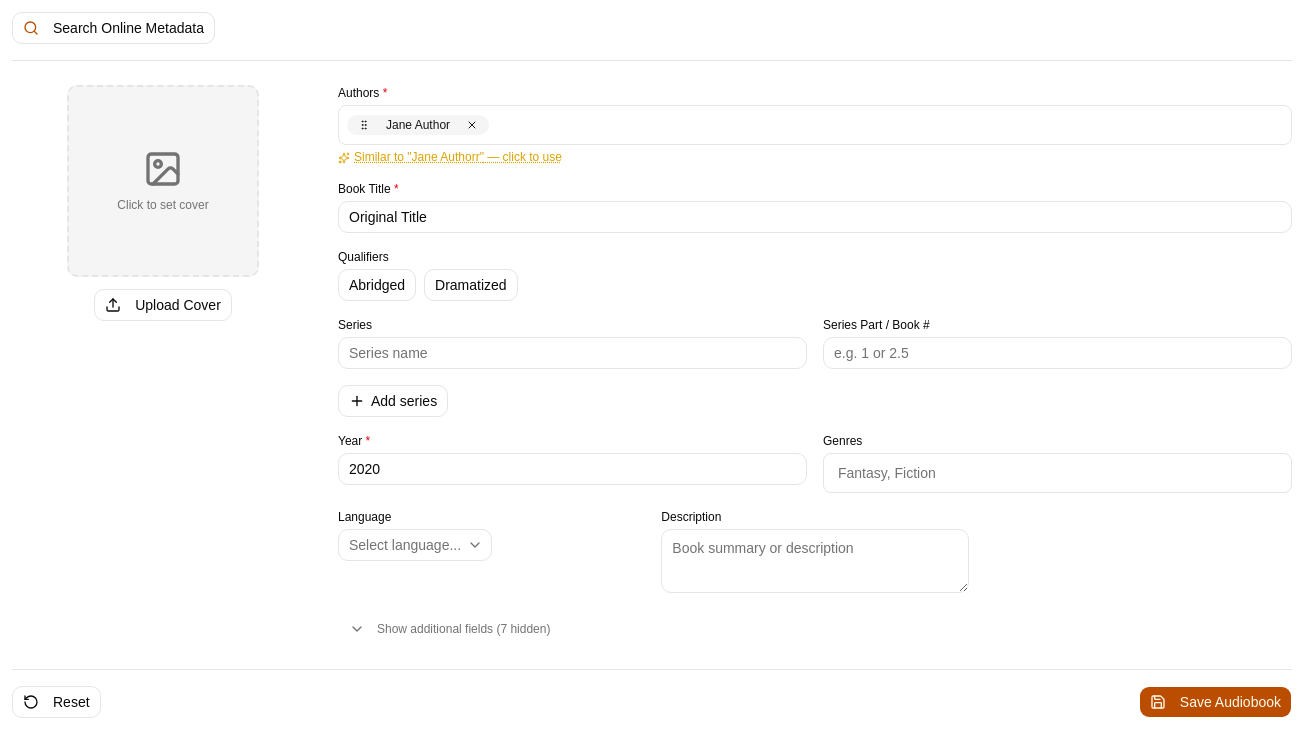
Test: BookEditForm › shows a click-to-use hint for the initial author as soon as the server classifies it as similar, with no typing required
What coordinates should you click on to do the following:
click the button "Similar to \"Jane Authorr\" — click to use"
I would click on:
 (450, 157)
Its box is [338,149,562,165].
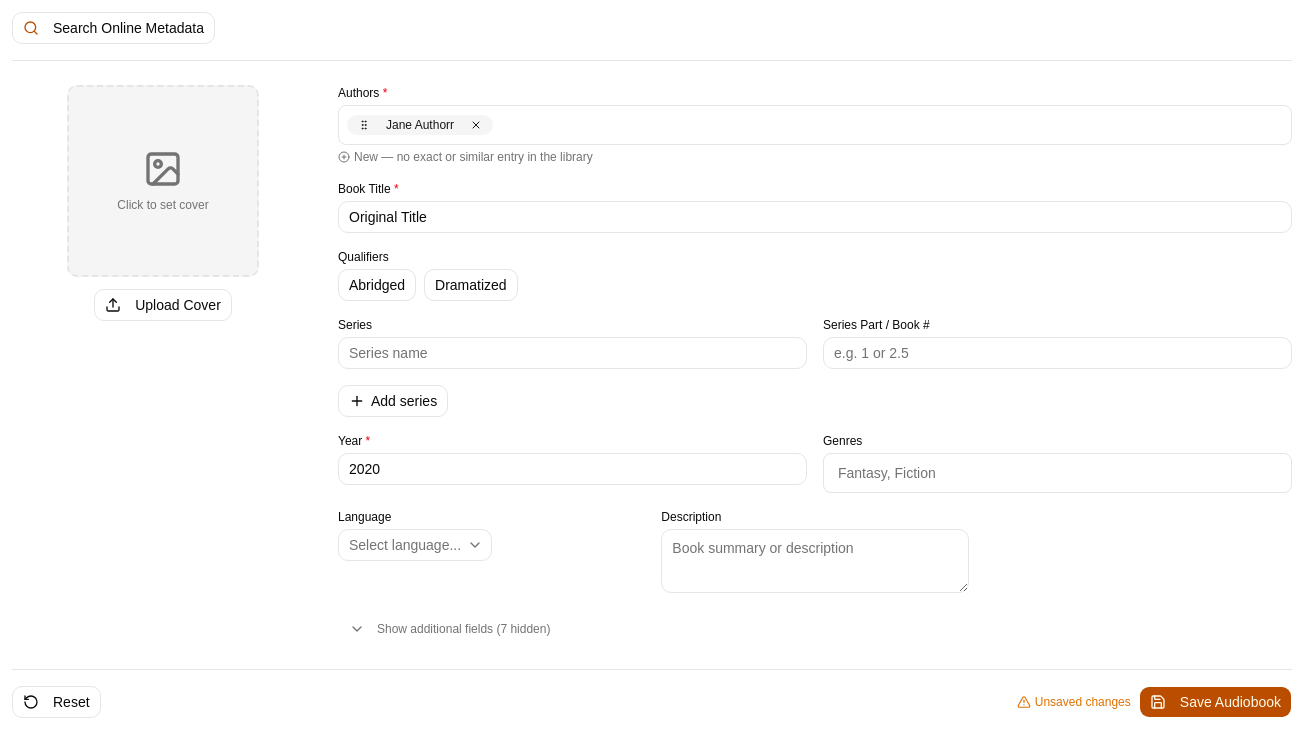
Now the button "Jane Authorr" is shown, box [380,115,460,135]
Now the button "Similar to \"Jane Authorr\" — click to use" is gone
